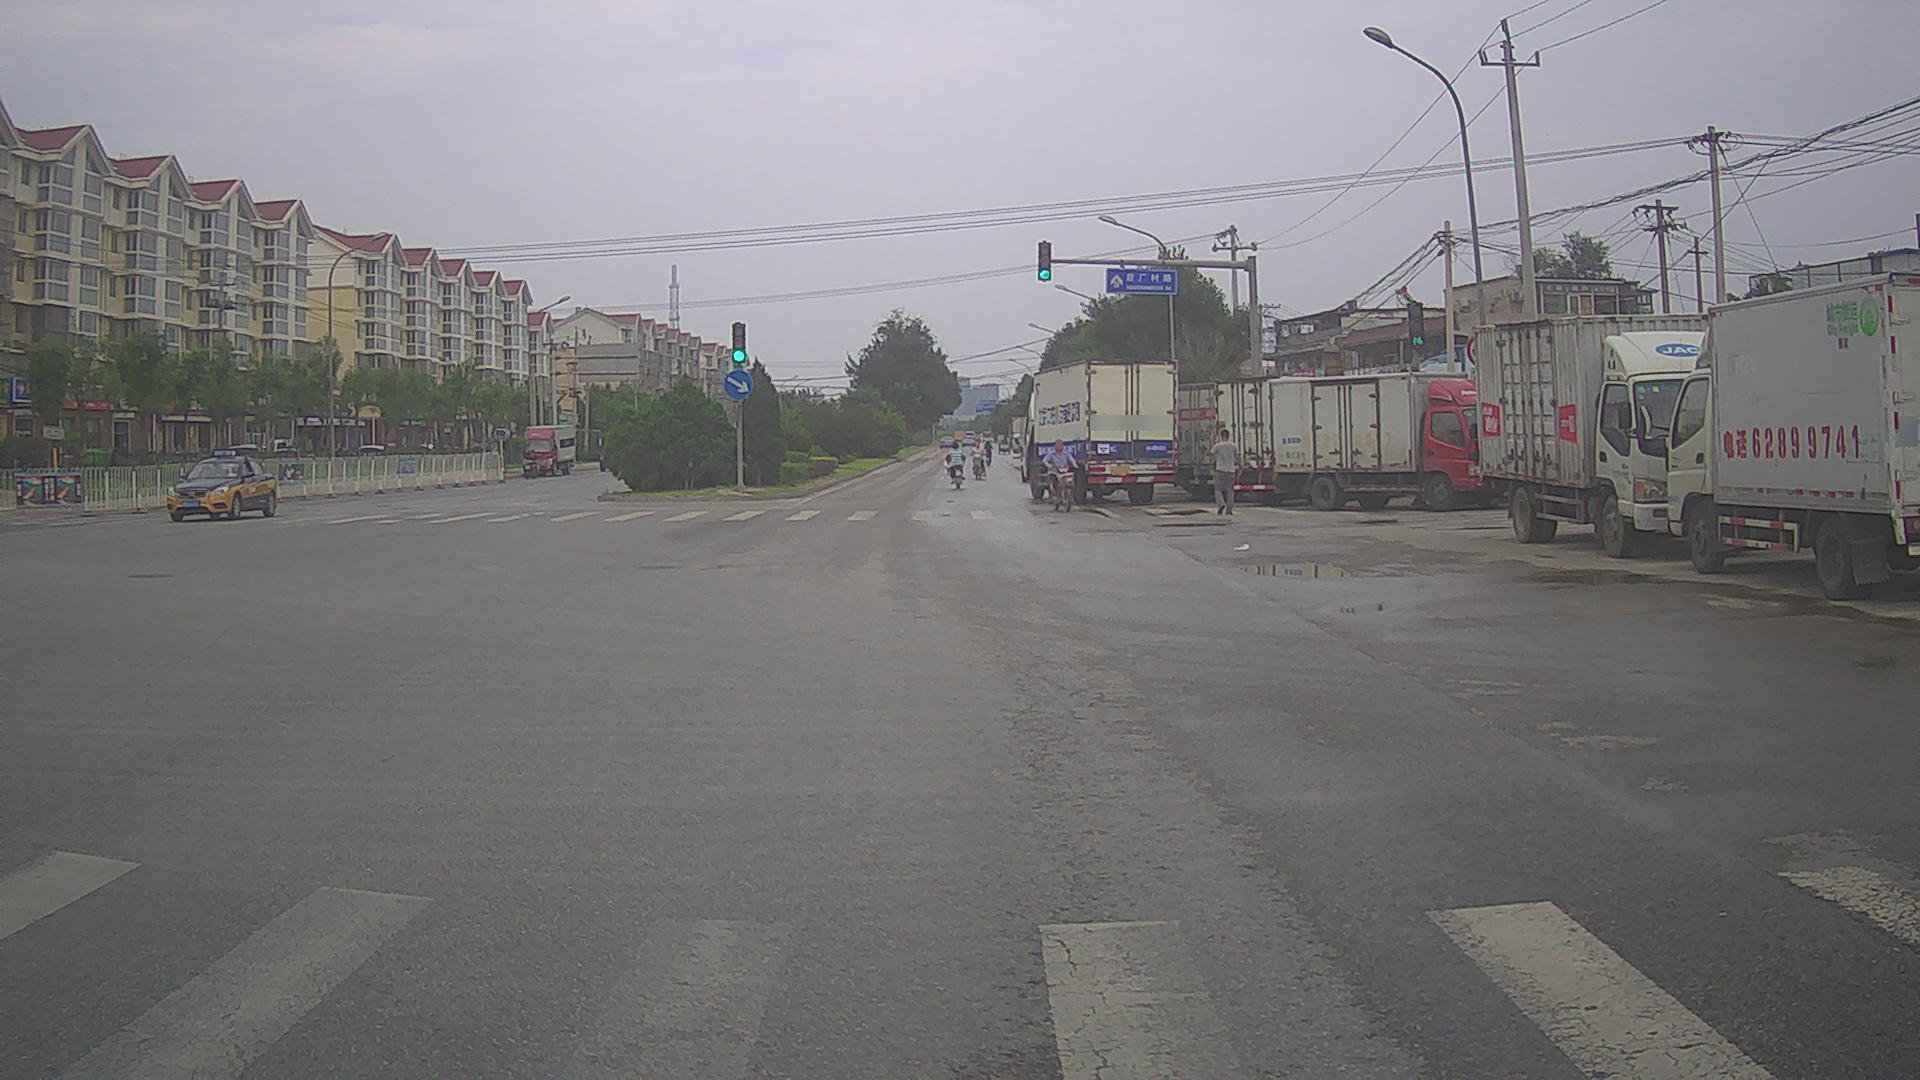car: (165, 449, 277, 522), (938, 435, 956, 449)
ignore: (1176, 378, 1270, 503), (227, 437, 298, 459), (954, 429, 997, 446), (1008, 414, 1026, 454), (357, 444, 388, 454), (428, 445, 438, 455)
motorcyclist: (1040, 438, 1080, 513), (945, 441, 966, 490), (969, 440, 987, 480), (523, 448, 539, 480), (982, 439, 993, 467)
pedestrian: (1205, 428, 1240, 515), (107, 448, 120, 485)
tricyclelist: (997, 435, 1011, 455)
truck: (1638, 269, 1919, 601), (1473, 312, 1744, 559), (1267, 370, 1502, 512), (1014, 357, 1176, 505), (521, 423, 577, 477)
